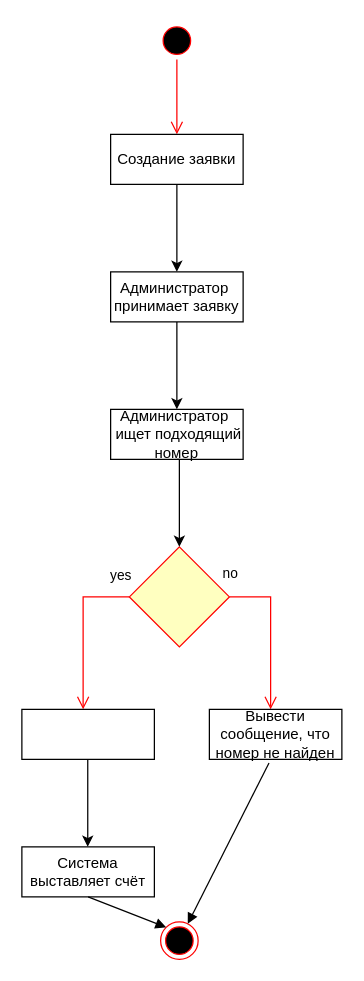
Image size: 364x981. Some labels were removed from this diagram. The centre of each missing label's shape, as x and y in pixels:
Вывести информацию о номере: point (87, 733)
Нашелся подходящий номер?: point (178, 596)
